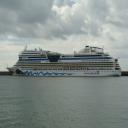cruises: (6, 44, 123, 80)
